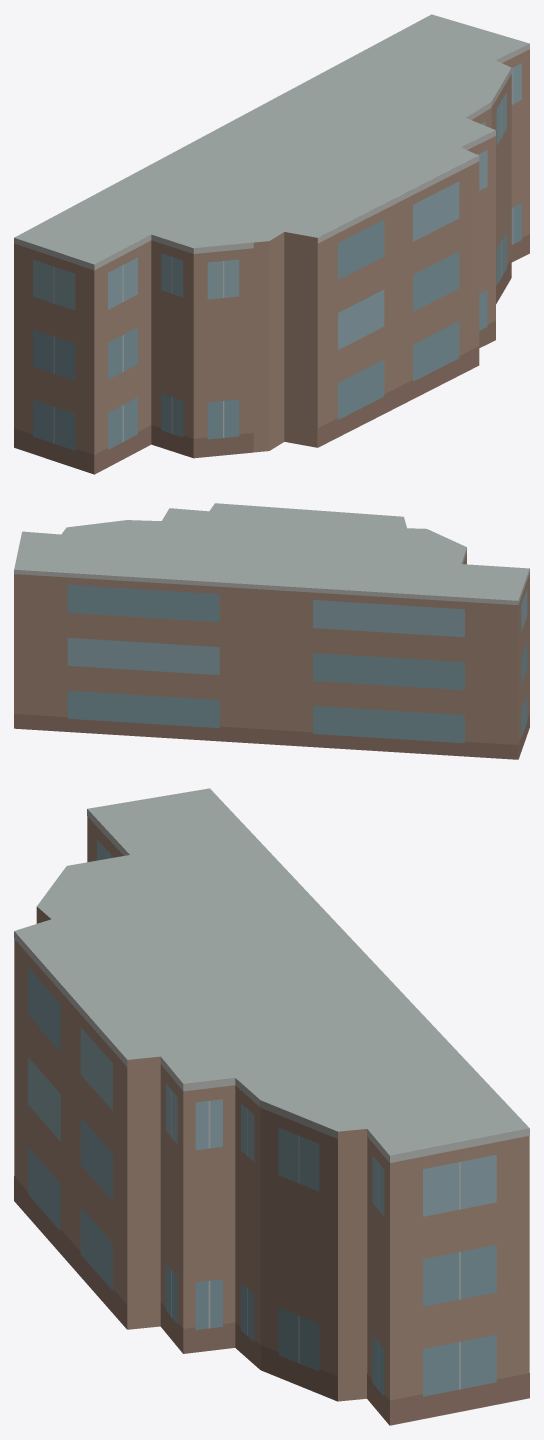
File: survey-upis-32899409.glb
The picture shows the model from 3 angles, top to bottom: view 1: azimuth 30°, elevation 25°; view 2: azimuth 150°, elevation 25°; view 3: azimuth 270°, elevation 25°; orthographic projection. The views are drawn at different scales.
Visible parts, largest first — view 1: survey-upis-32899409.tmp; view 2: survey-upis-32899409.tmp; view 3: survey-upis-32899409.tmp.
Boxes of the visible parts, box(x1,y1,x2,y2) form: survey-upis-32899409.tmp: box(14, 14, 529, 474); survey-upis-32899409.tmp: box(14, 503, 529, 759); survey-upis-32899409.tmp: box(14, 788, 529, 1425).
Bounding box in the file's own units: 26 × 8.9 × 15.42.
